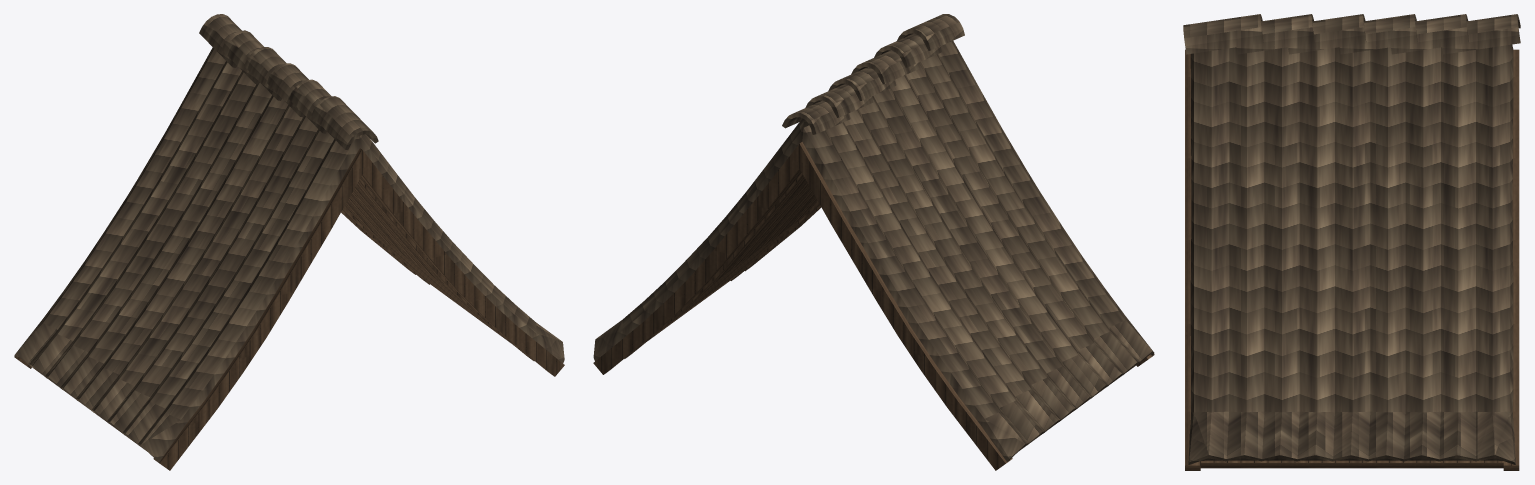
File: Roof_Shingle_6x4.gltf
3 views of the same model, side by side, from view 1: azimuth 30°, elevation 25°; view 2: azimuth 150°, elevation 25°; view 3: azimuth 270°, elevation 25° (orthographic). The views are drawn at different scales.
Parts seen in each view (by area): view 1: Roof_Shingle_6x4; view 2: Roof_Shingle_6x4; view 3: Roof_Shingle_6x4.
Boxes of the visible parts, x1,y1,x2,y2 form: Roof_Shingle_6x4: [14, 14, 564, 470]; Roof_Shingle_6x4: [593, 14, 1154, 470]; Roof_Shingle_6x4: [1183, 14, 1520, 470].
Size of the model in its own units: 8.25 by 5.67 by 4.99.
Materials: 2 (2 with a texture image).
